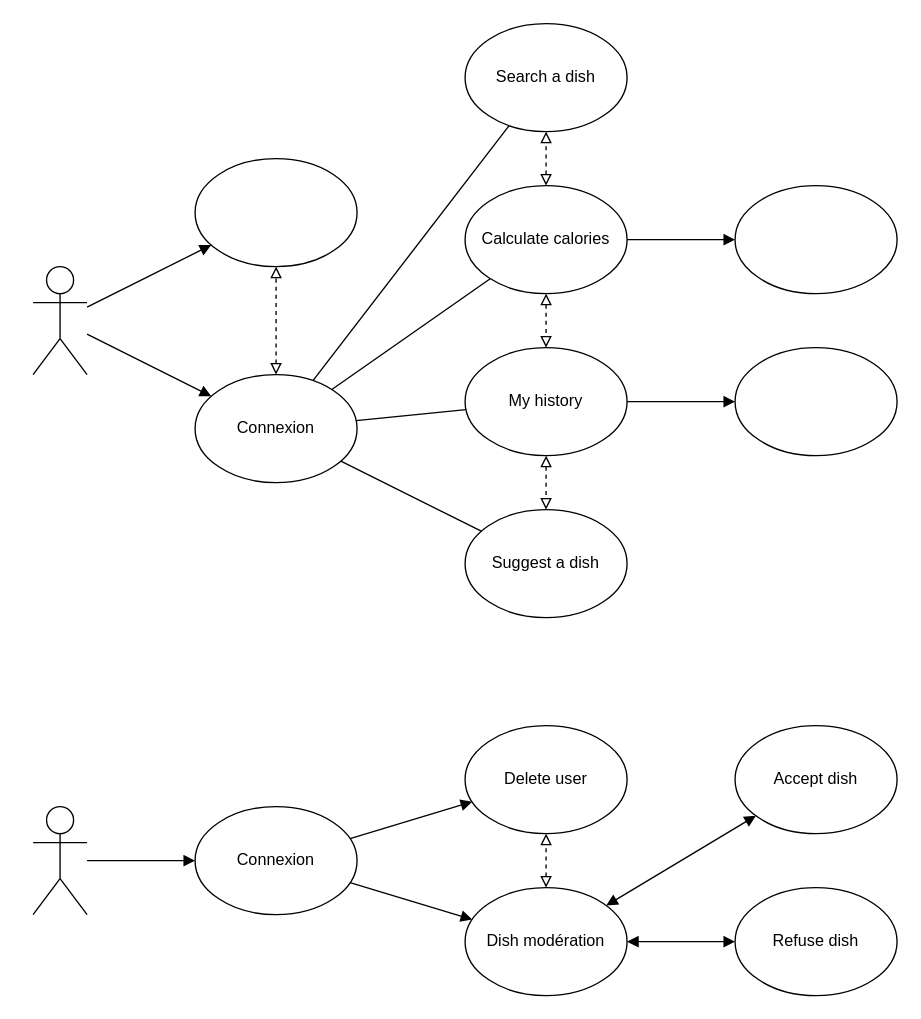
This 921x1019 diagram has some shape labels left out. The shapes that lost their labels are listed below. From the top down, each one's box as (x1, y1, x2, y2) in pixels, then its label:
(194, 157, 357, 267): Registration
(734, 184, 897, 294): Save result in "My history"
(32, 265, 87, 375): Actor
(734, 346, 897, 456): Filter entries
(32, 805, 87, 915): Moderator
